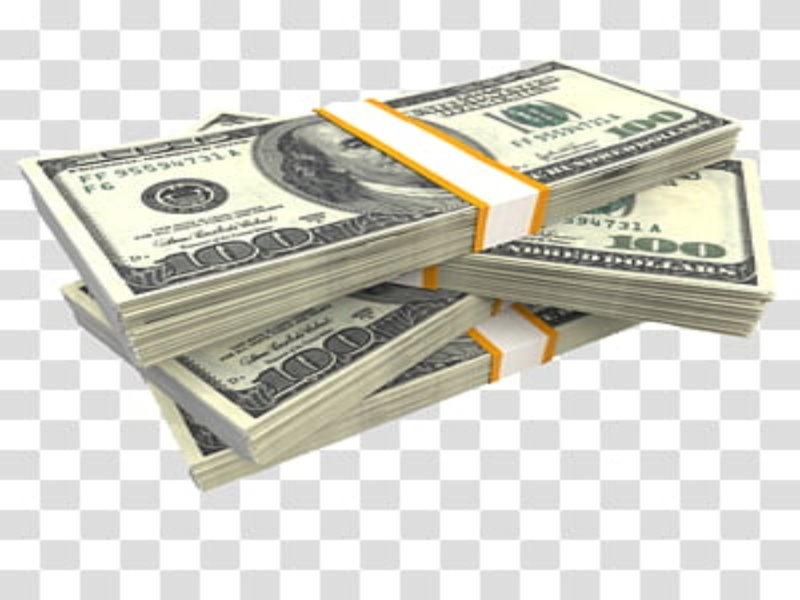cash: (17, 60, 773, 492)
